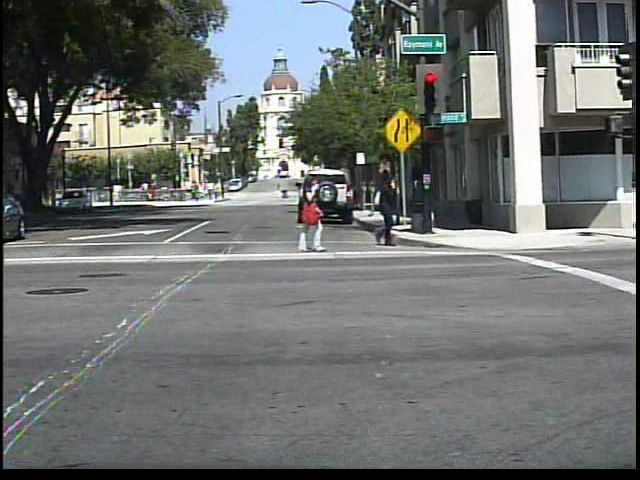person: (364, 168, 410, 250), (290, 168, 332, 252), (281, 186, 292, 203)
